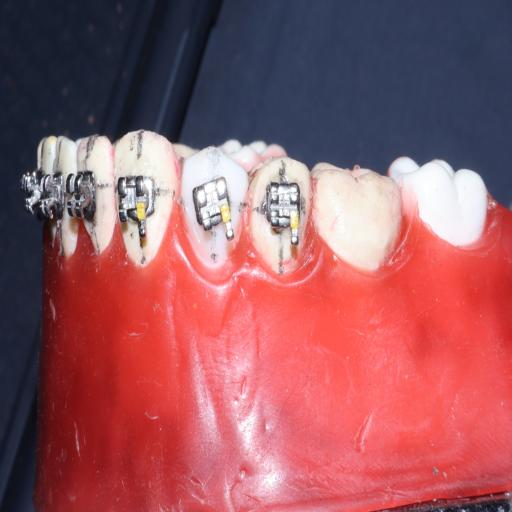correct_brace: (181, 148, 245, 264)
incorrect_brace: (191, 177, 233, 233)
